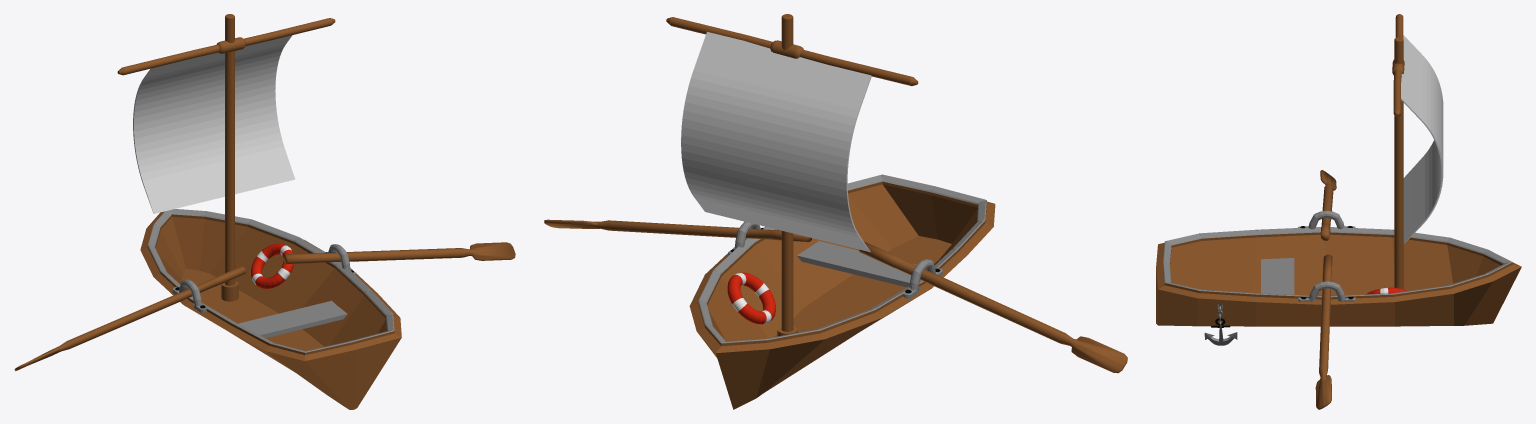
File: Boat.fbx
The picture shows the model from 3 angles, left to right: view 1: azimuth 30°, elevation 25°; view 2: azimuth 150°, elevation 25°; view 3: azimuth 270°, elevation 25°; orthographic projection. The views are drawn at different scales.
Visible parts, largest first — view 1: Boat; view 2: Boat; view 3: Boat.
Part boxes in pixels (x1,y1,x2,y2): Boat: (14, 14, 515, 409); Boat: (544, 14, 1127, 409); Boat: (1156, 14, 1521, 409).
Size of the model in its own units: 276 by 162 by 185.
